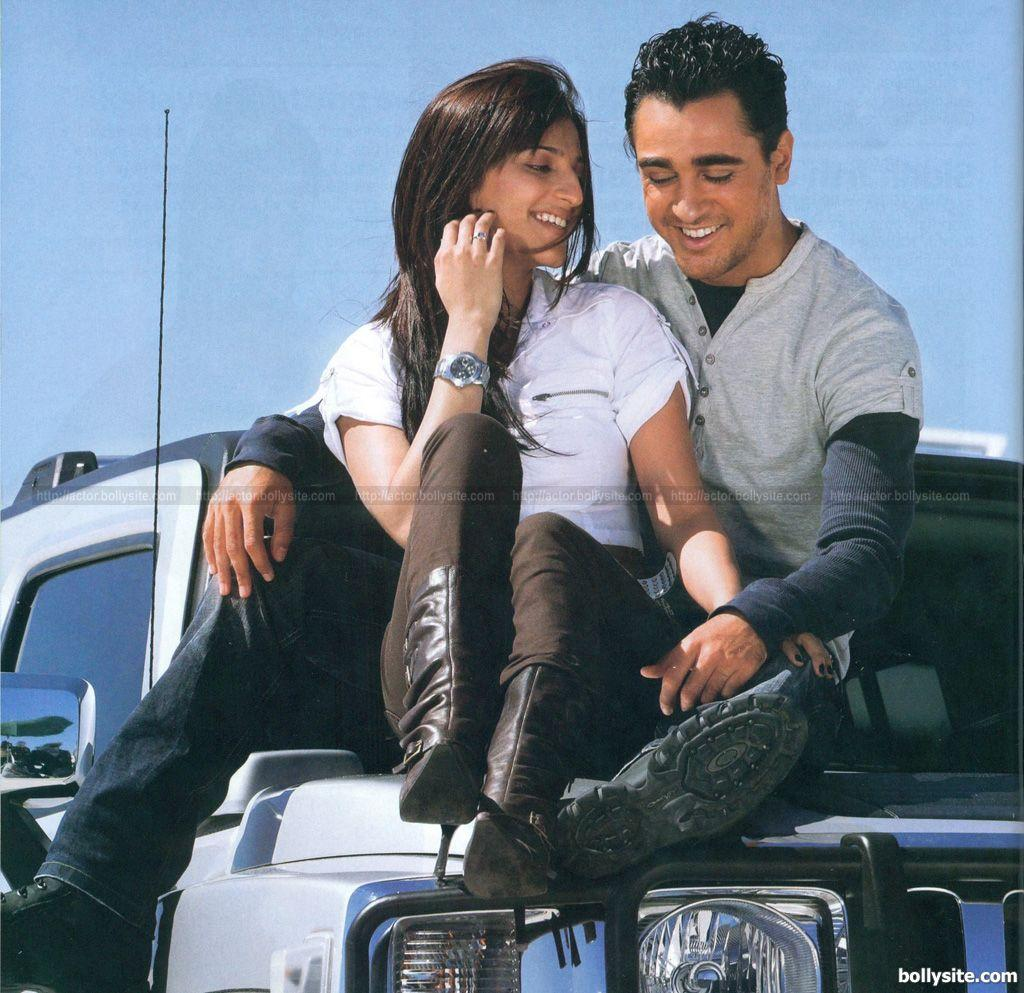face: (630, 106, 762, 282), (486, 112, 586, 268)
